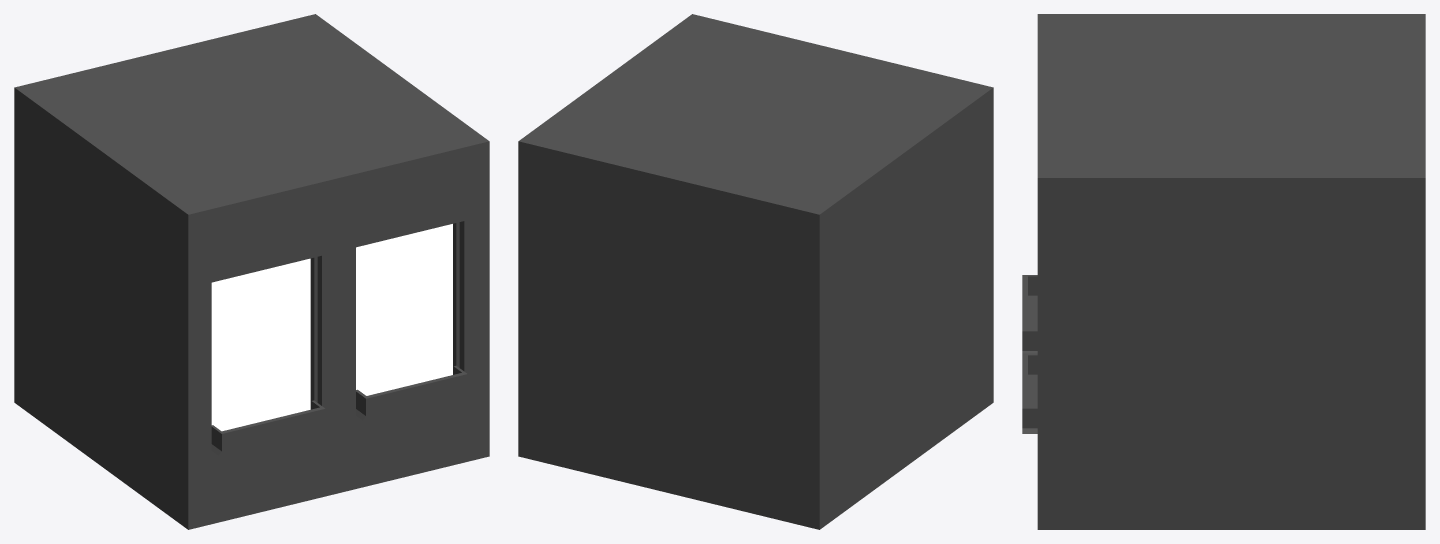
File: BookMilieu.fbx
The picture shows the model from 3 angles, left to right: view 1: azimuth 30°, elevation 25°; view 2: azimuth 150°, elevation 25°; view 3: azimuth 270°, elevation 25°; orthographic projection. The views are drawn at different scales.
Visible parts, largest first — view 1: Cube.207; view 2: Cube.207; view 3: Cube.207.
Part boxes in pixels (x1,y1,x2,y2): Cube.207: (14, 14, 489, 529); Cube.207: (518, 14, 993, 529); Cube.207: (1022, 14, 1425, 529).
Size of the model in its own units: 2000 by 2000 by 2079.
